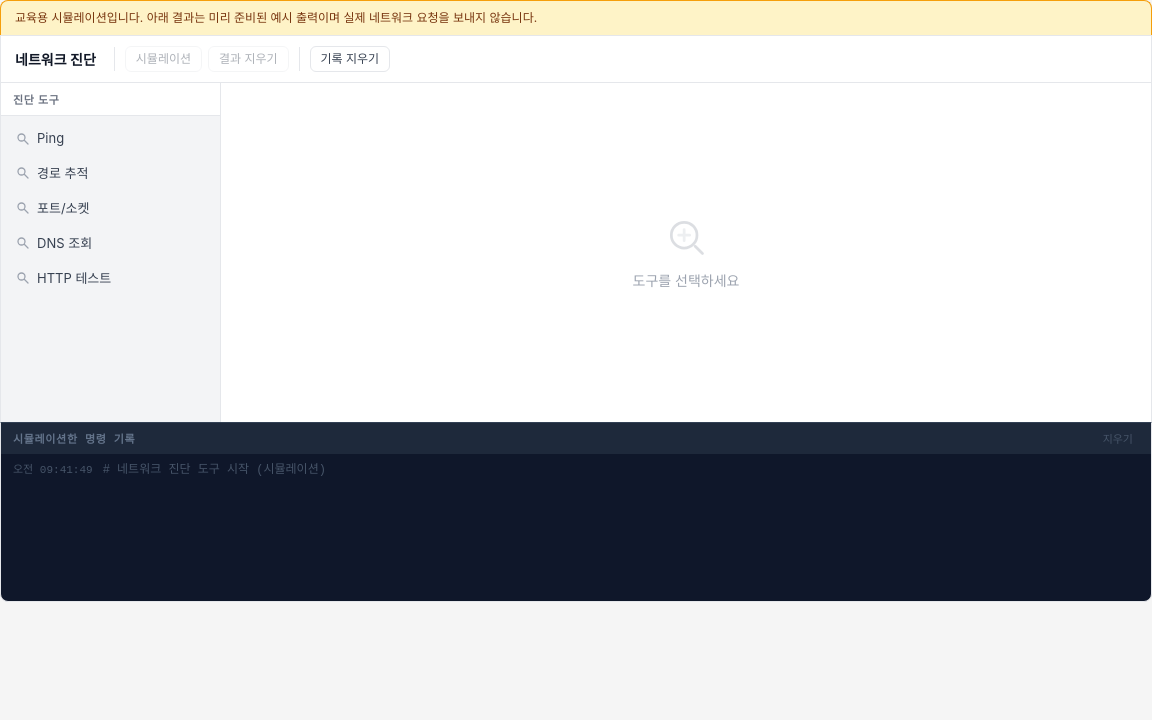
Test case: NetworkDiagnostics simulation page › shows the command preview as something to simulate, not to execute
Click the text "Ping".
click(51, 138)  # box [37,130,64,146]
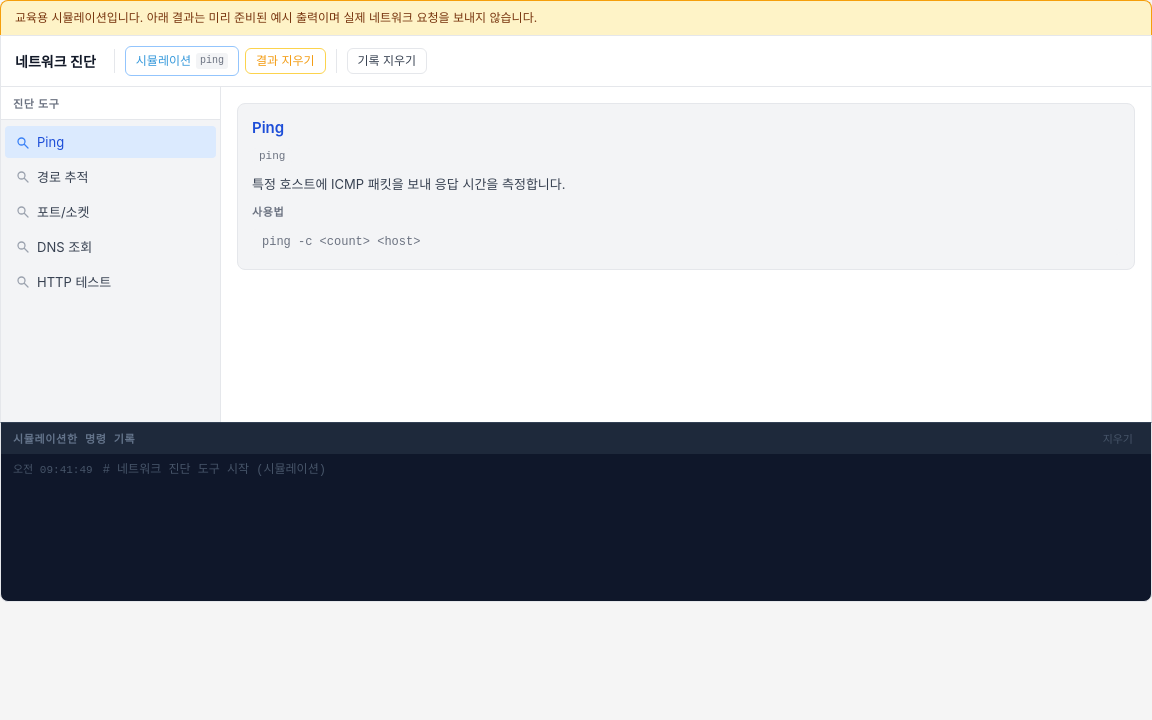
Click the button "시뮬레이션 ping".
click(182, 61)  # box [125,46,239,76]
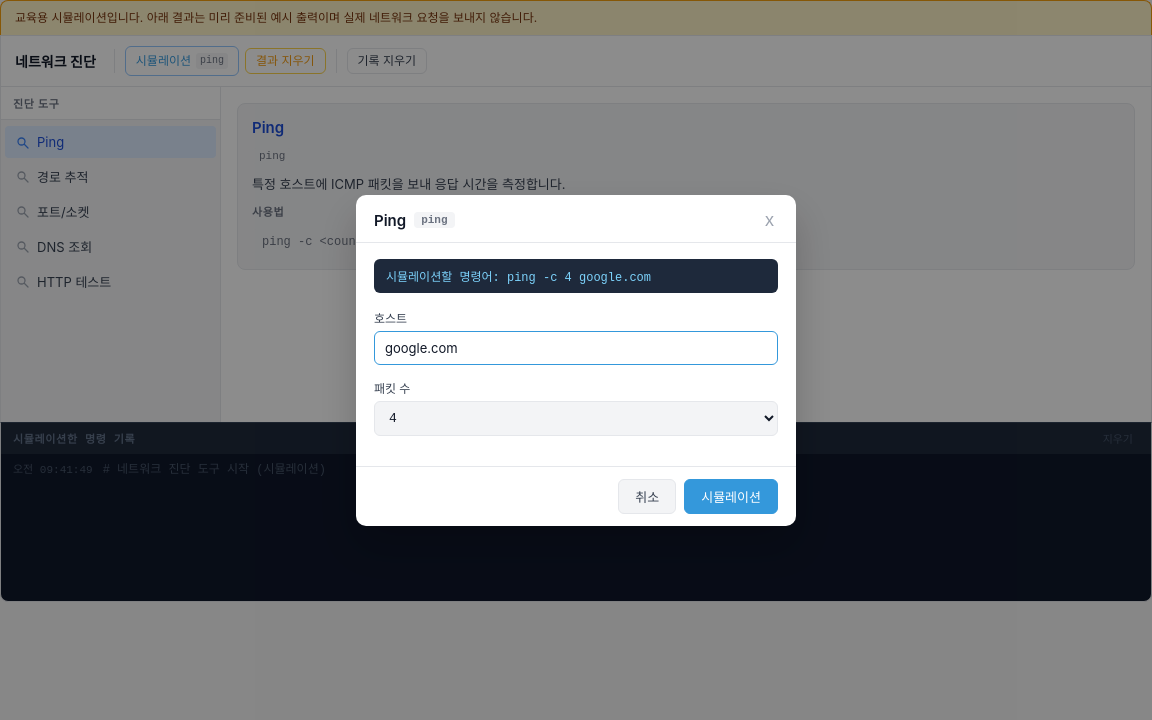
expect the text "시뮬레이션할 명령어: ping -c 4 google.com" is shown: met, box [374,258,778,292]
